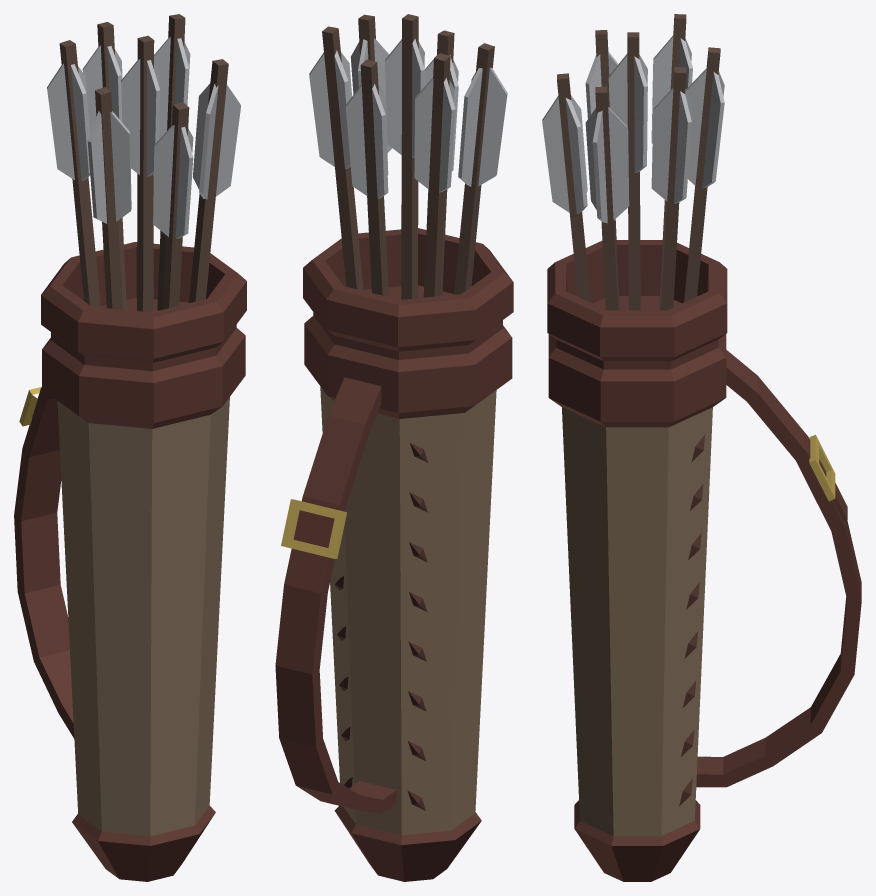
Rendered from quiver-722a40.glb.
The picture shows the model from 3 angles, left to right: view 1: azimuth 30°, elevation 25°; view 2: azimuth 150°, elevation 25°; view 3: azimuth 270°, elevation 25°; orthographic projection. The views are drawn at different scales.
Visible parts, largest first — view 1: quiver-matte, arrows-mesh; view 2: quiver-matte, arrows-mesh, quiver-metal; view 3: quiver-matte, arrows-mesh, quiver-metal.
Boxes of the visible parts, box(x1,y1,x2,y2) form: quiver-matte: box(14, 242, 246, 881); arrows-mesh: box(47, 14, 240, 312); quiver-matte: box(275, 228, 513, 881); arrows-mesh: box(309, 14, 507, 299); quiver-metal: box(281, 499, 346, 558); quiver-matte: box(547, 240, 861, 881); arrows-mesh: box(542, 14, 724, 310); quiver-metal: box(809, 434, 835, 501).
Size of the model in its own units: 0.1497 by 0.702 by 0.2445.
